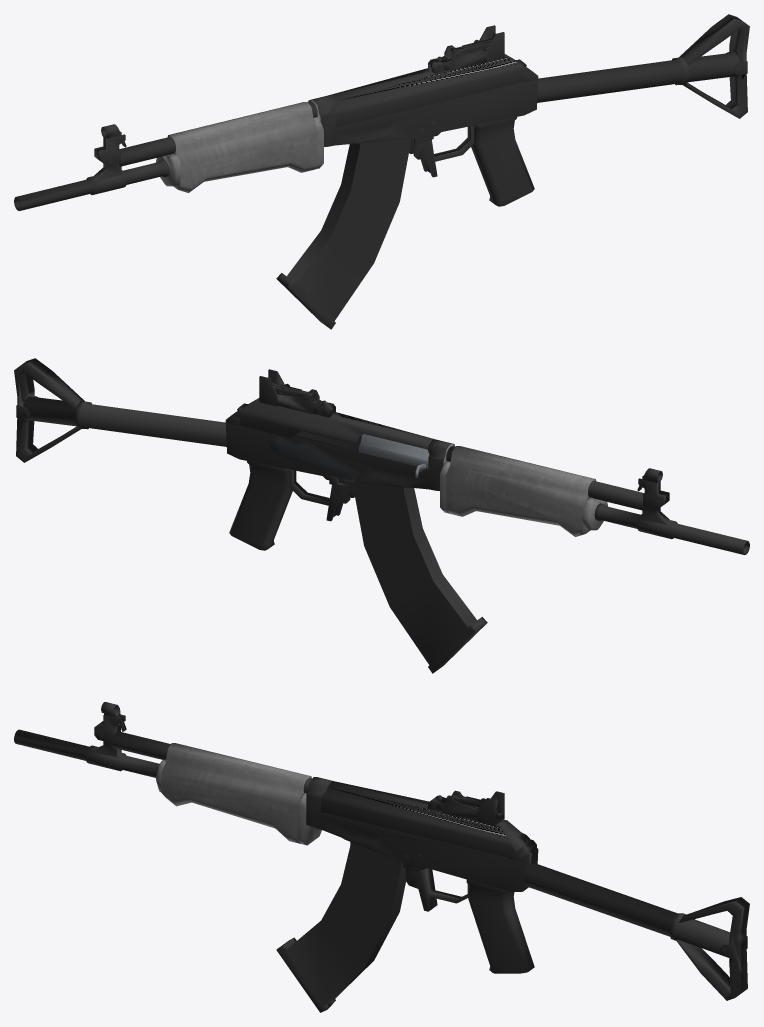
3 renders of one model, top to bottom at view 1: azimuth 30°, elevation 25°; view 2: azimuth 150°, elevation 25°; view 3: azimuth 330°, elevation 25°, orthographic.
Parts seen in each view (by area): view 1: Cube; view 2: Cube; view 3: Cube.
Part boxes in pixels (x1,y1,x2,y2): Cube: (14, 14, 749, 329); Cube: (14, 358, 749, 673); Cube: (14, 702, 749, 1012).
Bounding box in the file's own units: 890 × 299 × 64.18.
Materials: 1 (1 with a texture image).
